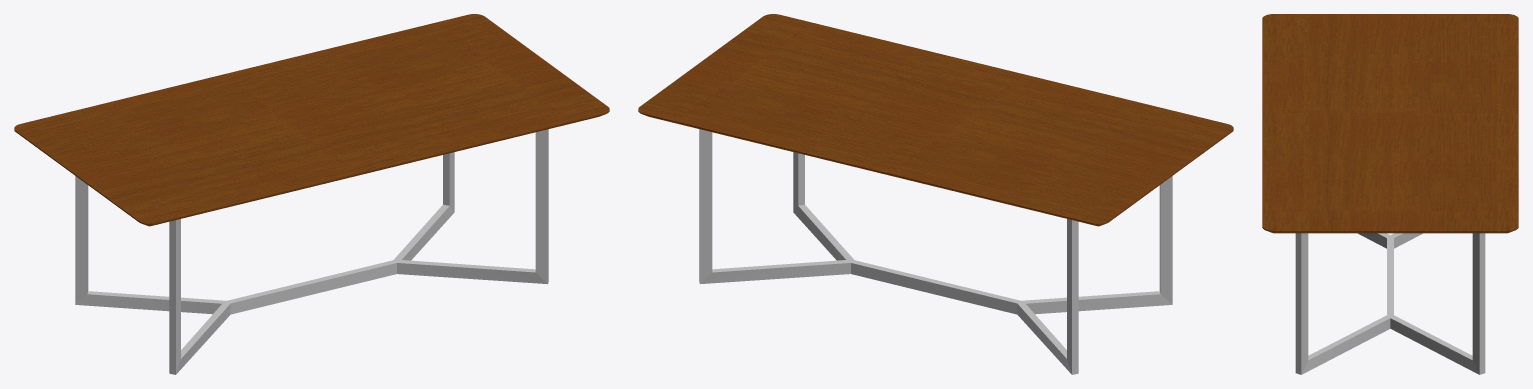
File: table.dae
3 renders of one model, left to right at view 1: azimuth 30°, elevation 25°; view 2: azimuth 150°, elevation 25°; view 3: azimuth 270°, elevation 25°, orthographic. The views are drawn at different scales.
Parts seen in each view (by area): view 1: group_0, group_1; view 2: group_0, group_1; view 3: group_0, group_1.
Boxes of the visible parts, bbox=[...] form: group_0: bbox=[14, 14, 609, 226]; group_1: bbox=[75, 129, 548, 374]; group_0: bbox=[638, 14, 1233, 226]; group_1: bbox=[699, 129, 1172, 374]; group_0: bbox=[1262, 14, 1518, 233]; group_1: bbox=[1295, 233, 1485, 374].
Bounding box in the file's own units: 86.61 × 43.31 × 30.71.
